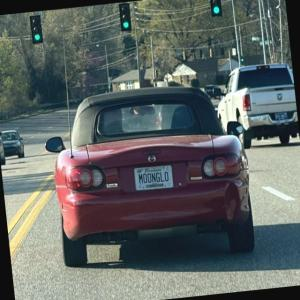Plate: (134, 165, 173, 191)
